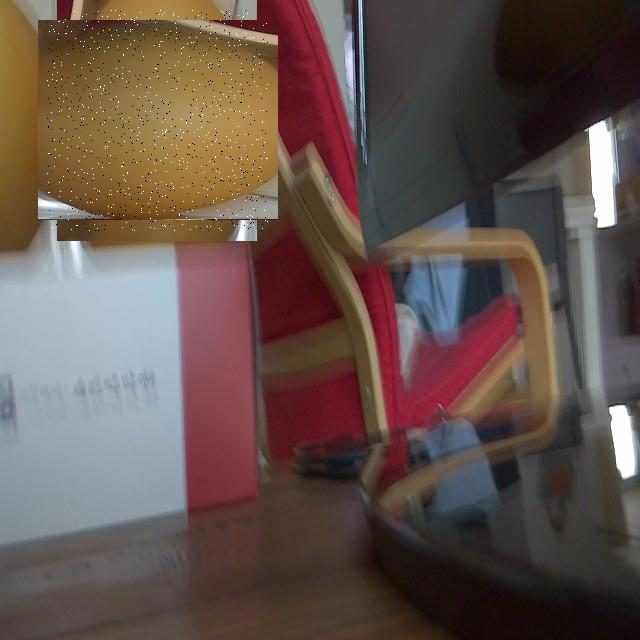pear: (47, 10, 268, 231)
